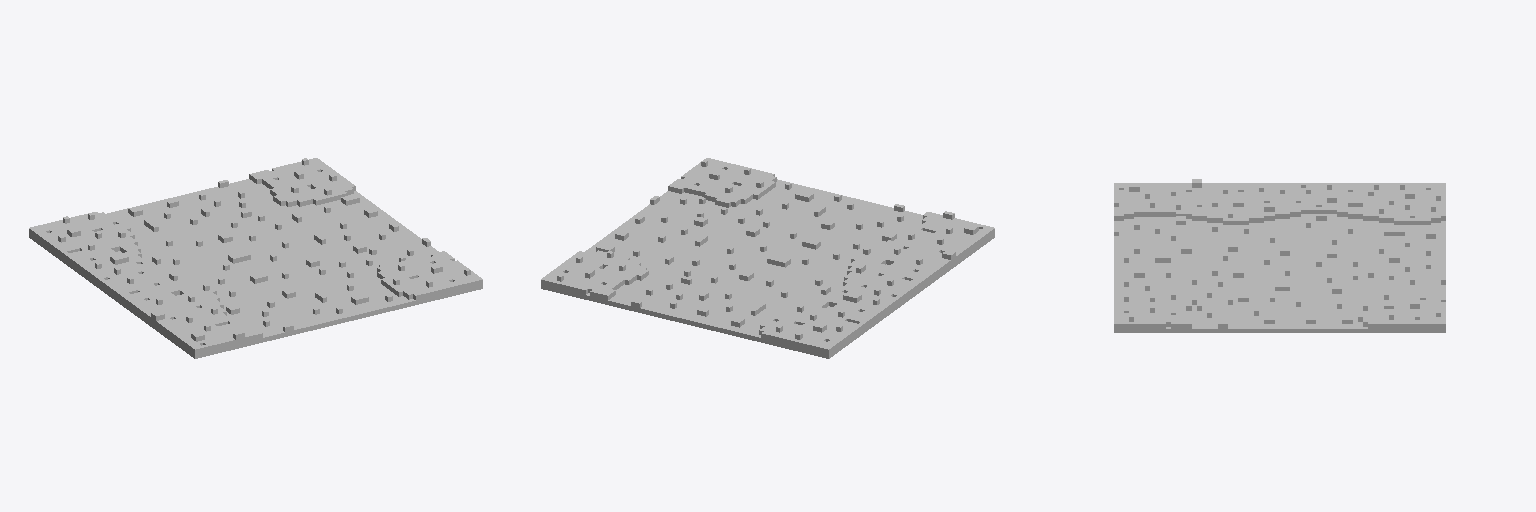
The model's file is EarthenPath3Fork_1.obj.
The picture shows the model from 3 angles: view 1: azimuth 30°, elevation 25°; view 2: azimuth 150°, elevation 25°; view 3: azimuth 270°, elevation 25°; orthographic projection.
Parts seen in each view (by area): view 1: EarthenPath3Fork_1.001; view 2: EarthenPath3Fork_1.001; view 3: EarthenPath3Fork_1.001.
Boxes of the visible parts, box(x1,y1,x2,y2) form: EarthenPath3Fork_1.001: box(29, 158, 482, 358); EarthenPath3Fork_1.001: box(541, 158, 994, 358); EarthenPath3Fork_1.001: box(1114, 179, 1445, 332).
Size of the model in its own units: 1 by 0.0469 by 1.